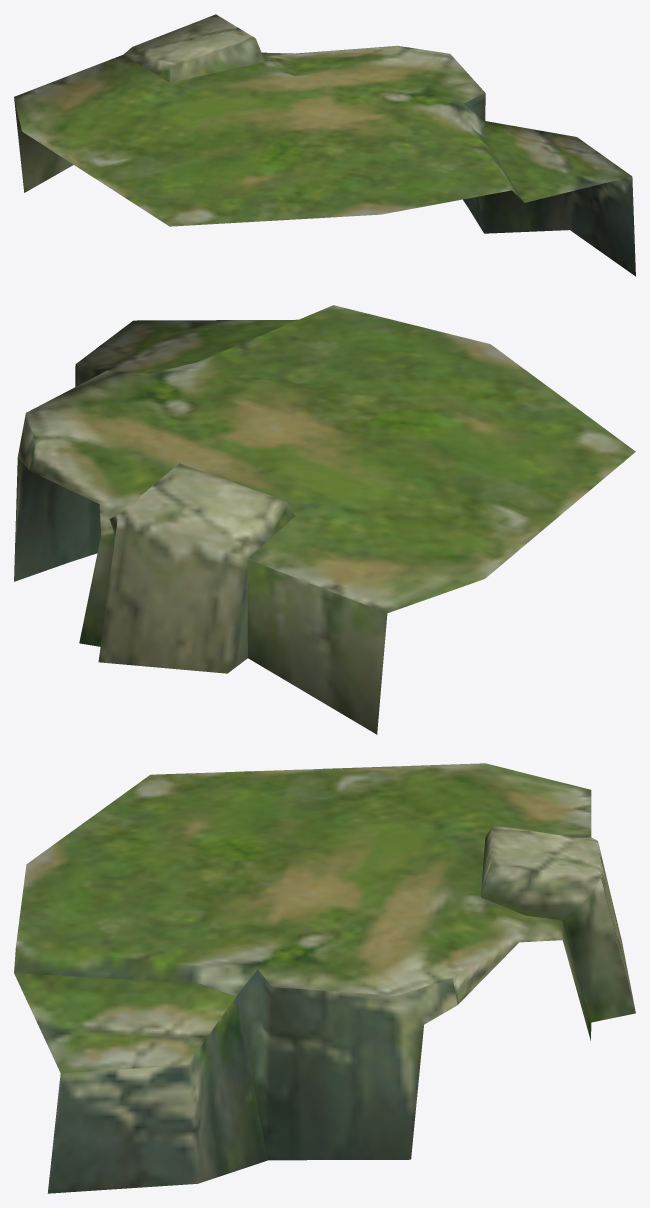
File: S_Rock_Green054_1060_26.fbx
3 views of the same model, one above another, from view 1: azimuth 30°, elevation 25°; view 2: azimuth 150°, elevation 25°; view 3: azimuth 270°, elevation 25° (orthographic). The views are drawn at different scales.
Parts seen in each view (by area): view 1: S_Rock_Green054_1060_26; view 2: S_Rock_Green054_1060_26; view 3: S_Rock_Green054_1060_26.
Boxes of the visible parts, bbox=[...] form: S_Rock_Green054_1060_26: bbox=[14, 14, 635, 276]; S_Rock_Green054_1060_26: bbox=[14, 305, 635, 734]; S_Rock_Green054_1060_26: bbox=[14, 763, 635, 1193].
Bounding box in the file's own units: 1588 × 567 × 1533.
Materials: 1 (1 with a texture image).
